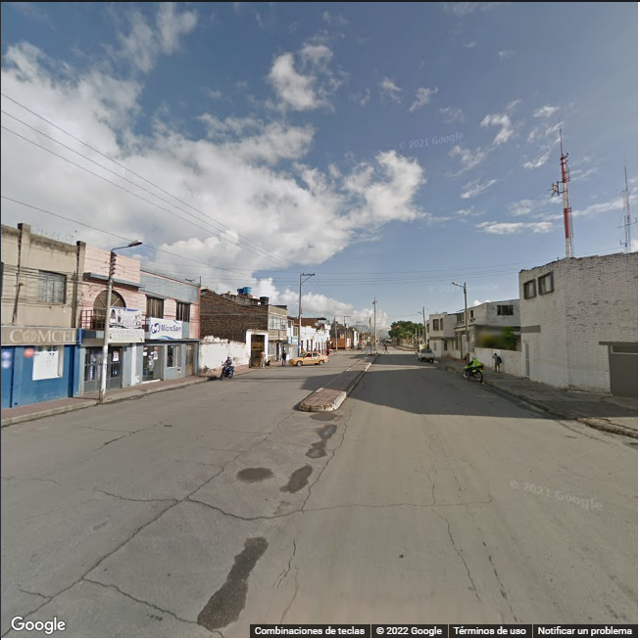D00: (14, 465, 221, 631), (431, 502, 487, 605), (313, 439, 346, 493), (283, 571, 301, 629), (275, 539, 296, 588)
D10: (88, 575, 226, 636), (184, 497, 304, 521), (81, 486, 182, 502), (311, 500, 436, 511), (15, 586, 49, 599)
